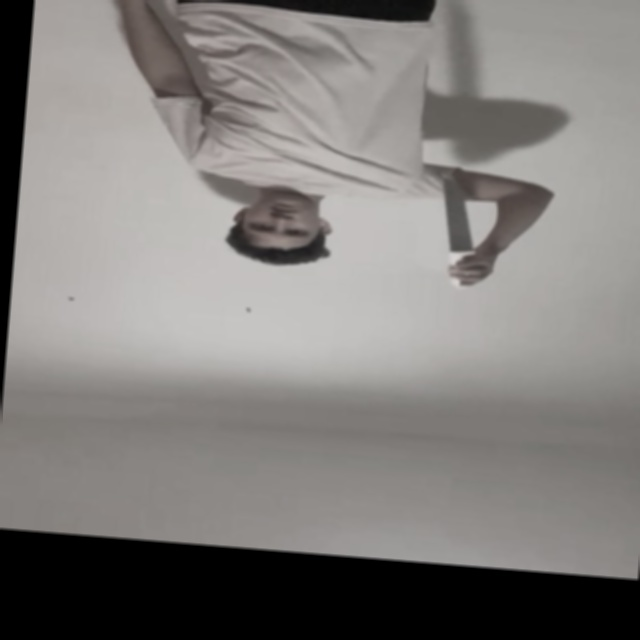Sharp-Object: (434, 179, 475, 251)
